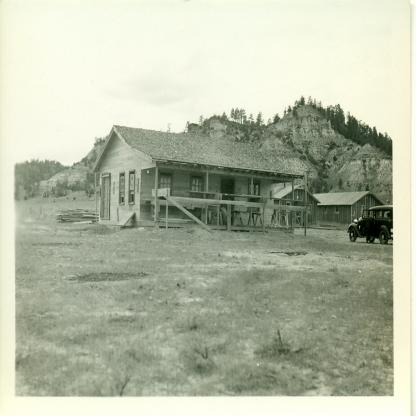Car: (350, 206, 397, 244)
